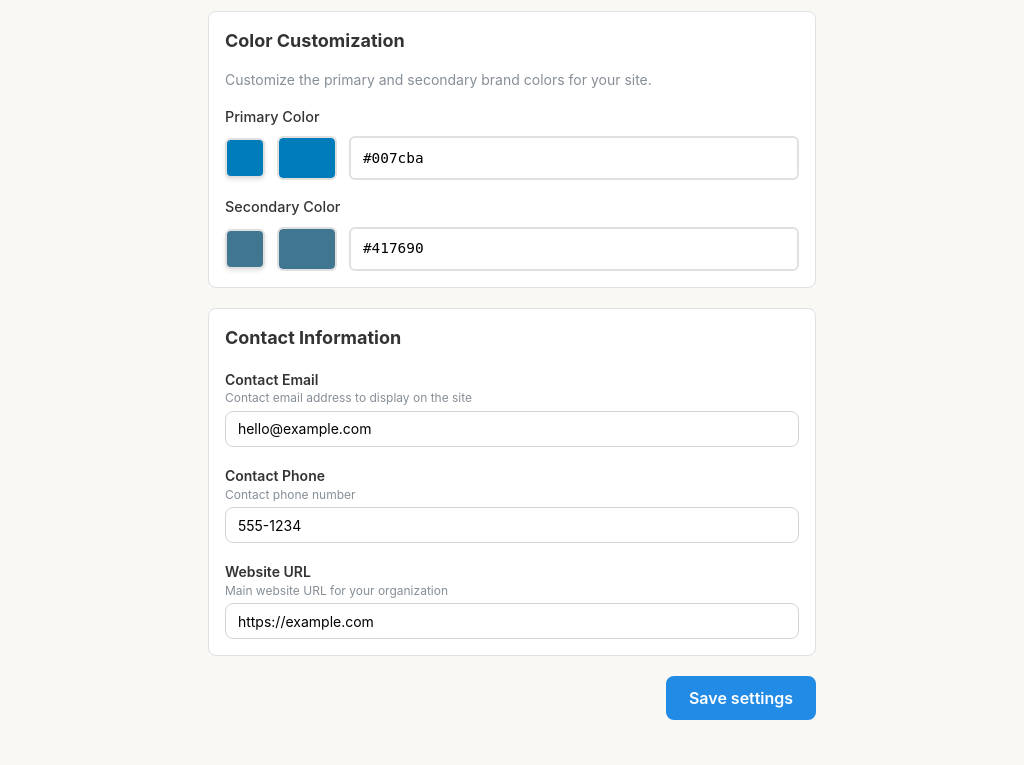
Test case: SiteSettingsPage › surfaces an error alert when saving settings fails
(page scrolled)
Click the button "Save settings" at (741, 698), box [666,676,816,720]
(page scrolled)
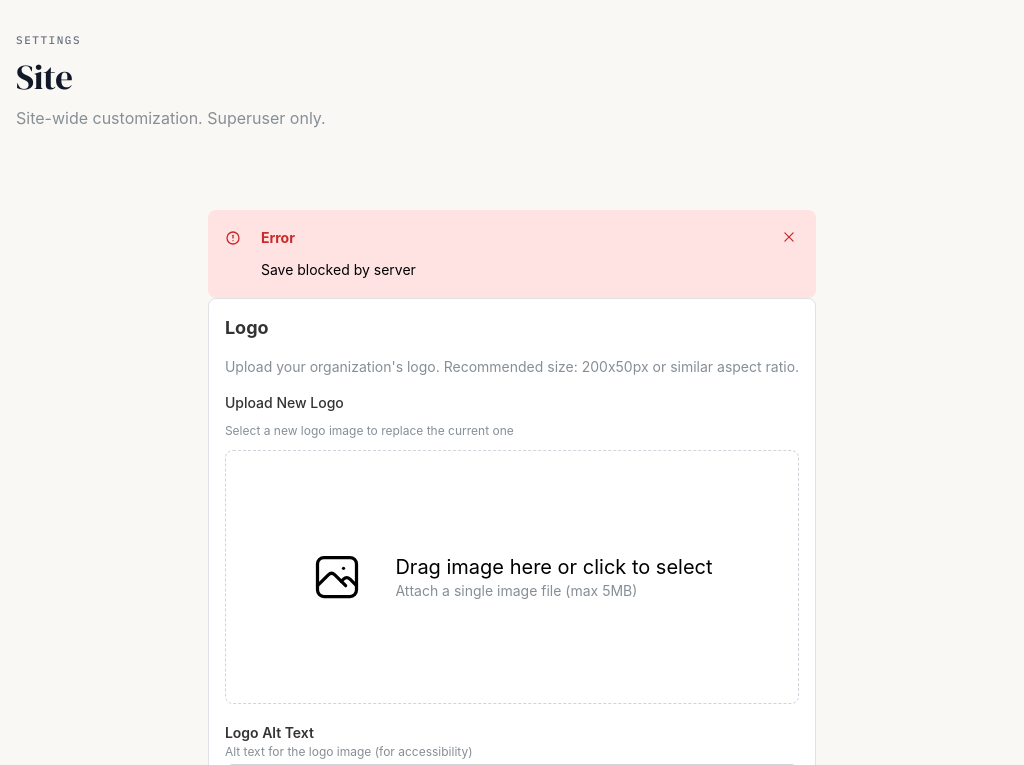
Now the text "Save blocked by server" is shown, box [261,261,416,278]
